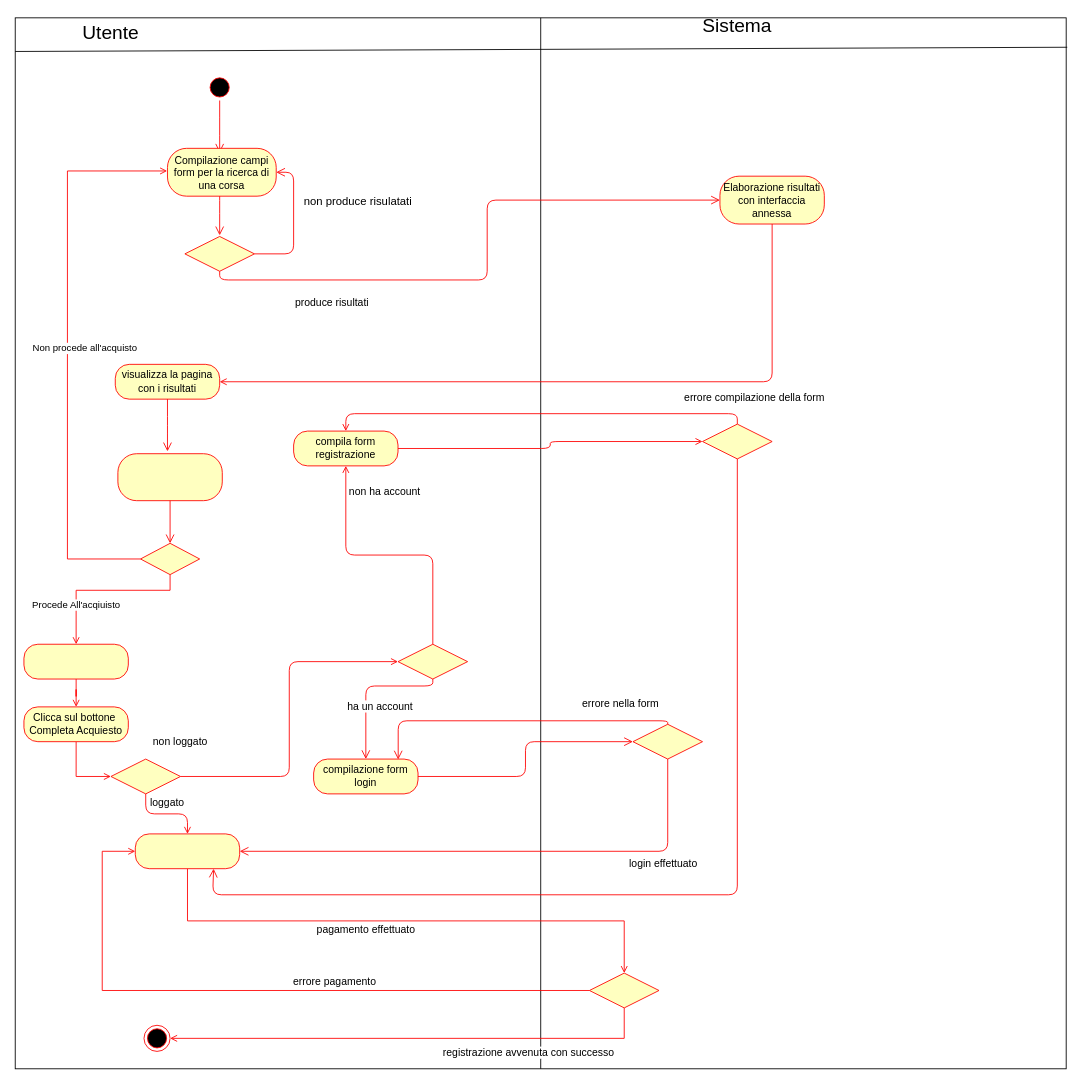
The diagram is 1084 pixels wide and 1085 high, and some of its shapes have lost their labels. The centre of each missing label's shape, as x and y in pixels:
clicca il bottone per vedere i dati dellla corsa designata: [169,477]
completamento form di pagamento: [187,851]
Scelta Classe: [75,661]
